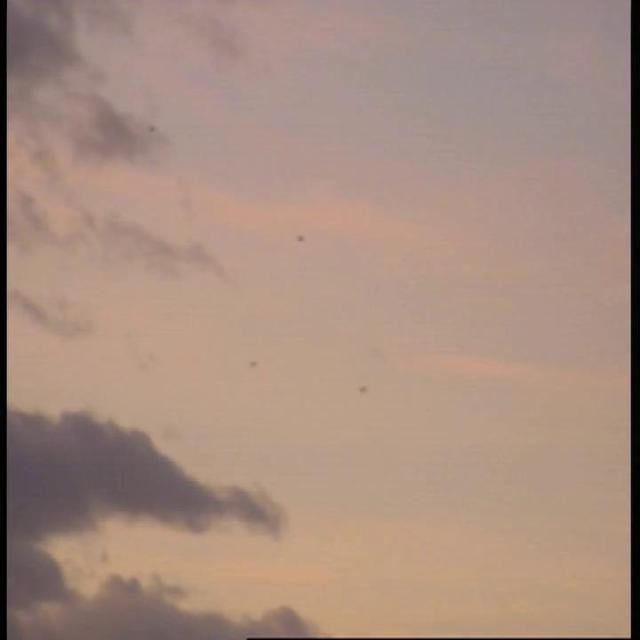drone: (140, 120, 164, 139), (243, 354, 264, 374), (292, 231, 312, 250), (356, 381, 374, 400)
